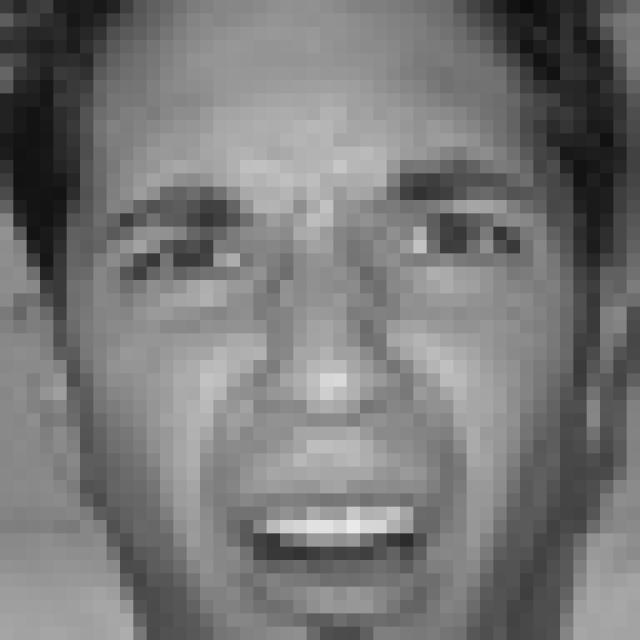disgust: (107, 156, 539, 622)
